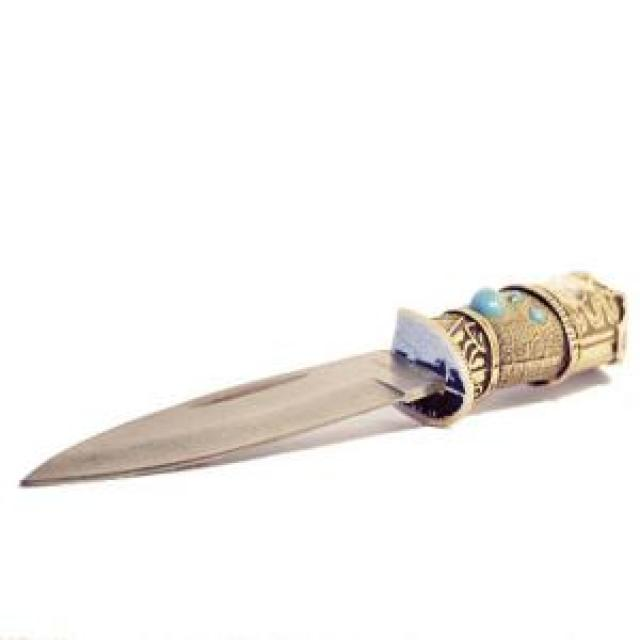knife: (19, 267, 632, 499)
